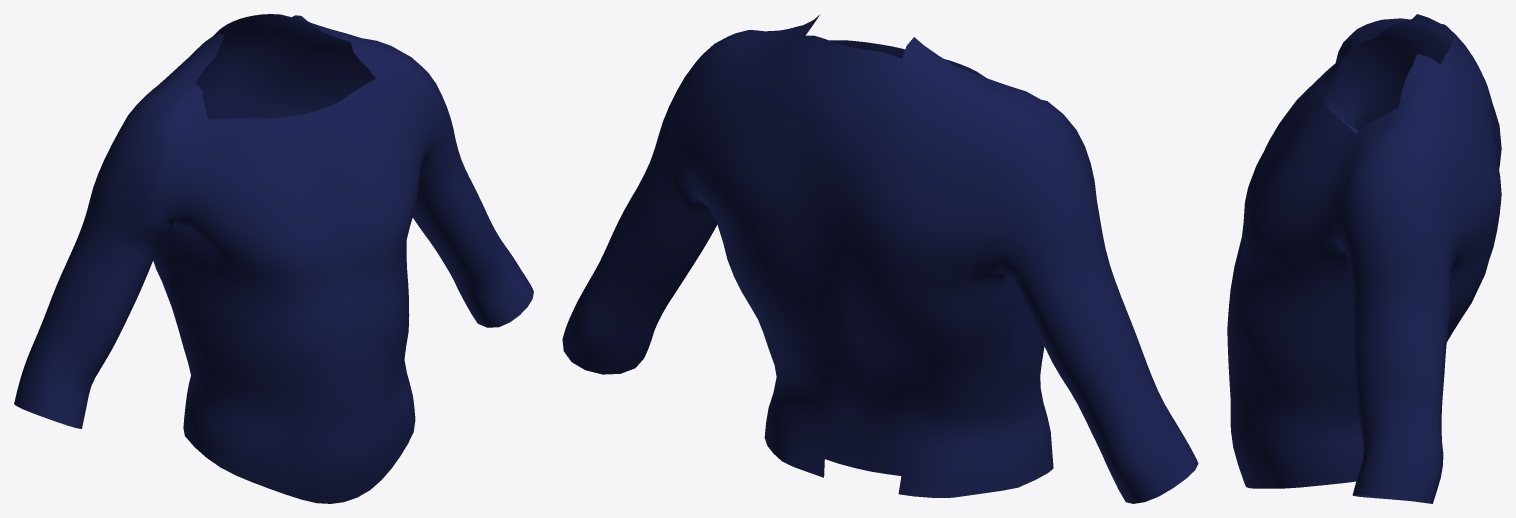
File: simple_top.fbx
The picture shows the model from 3 angles, left to right: view 1: azimuth 30°, elevation 25°; view 2: azimuth 150°, elevation 25°; view 3: azimuth 270°, elevation 25°; orthographic projection. The views are drawn at different scales.
Visible parts, largest first — view 1: humanBody; view 2: humanBody; view 3: humanBody.
Part boxes in pixels (x1,y1,x2,y2): humanBody: (14, 14, 533, 503); humanBody: (562, 15, 1198, 503); humanBody: (1227, 14, 1501, 503).
Bounding box in the file's own units: 78.08 × 61.34 × 34.31.
